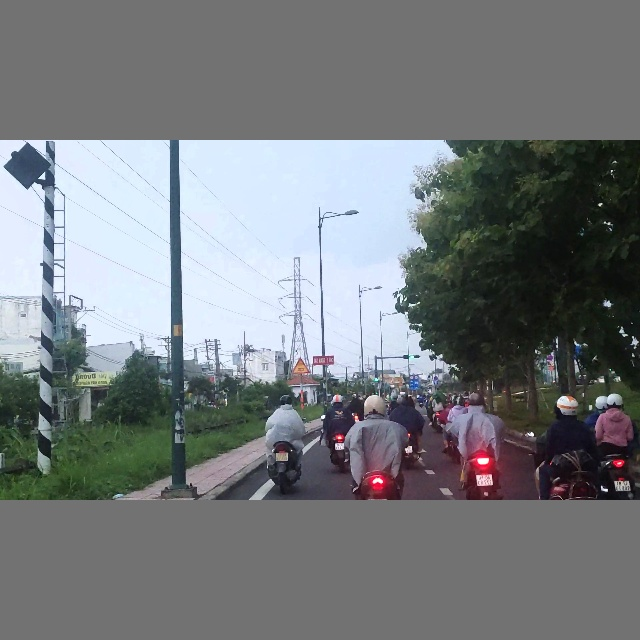W.210: (292, 357, 311, 374)
